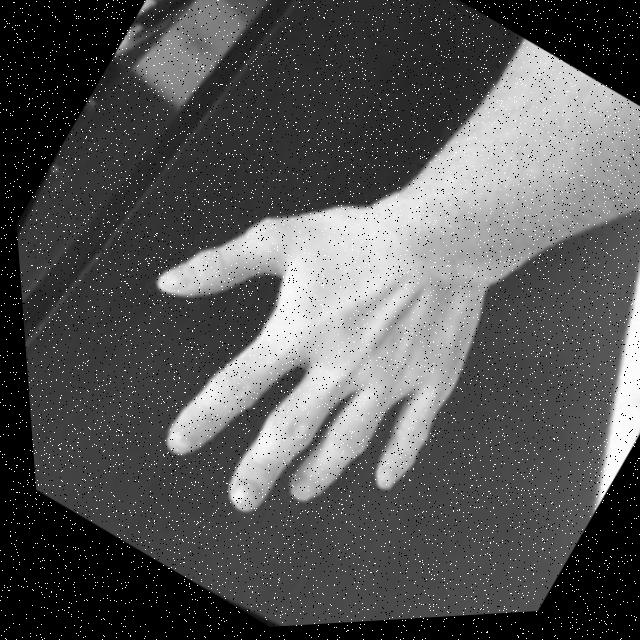hand: (51, 118, 529, 594)
